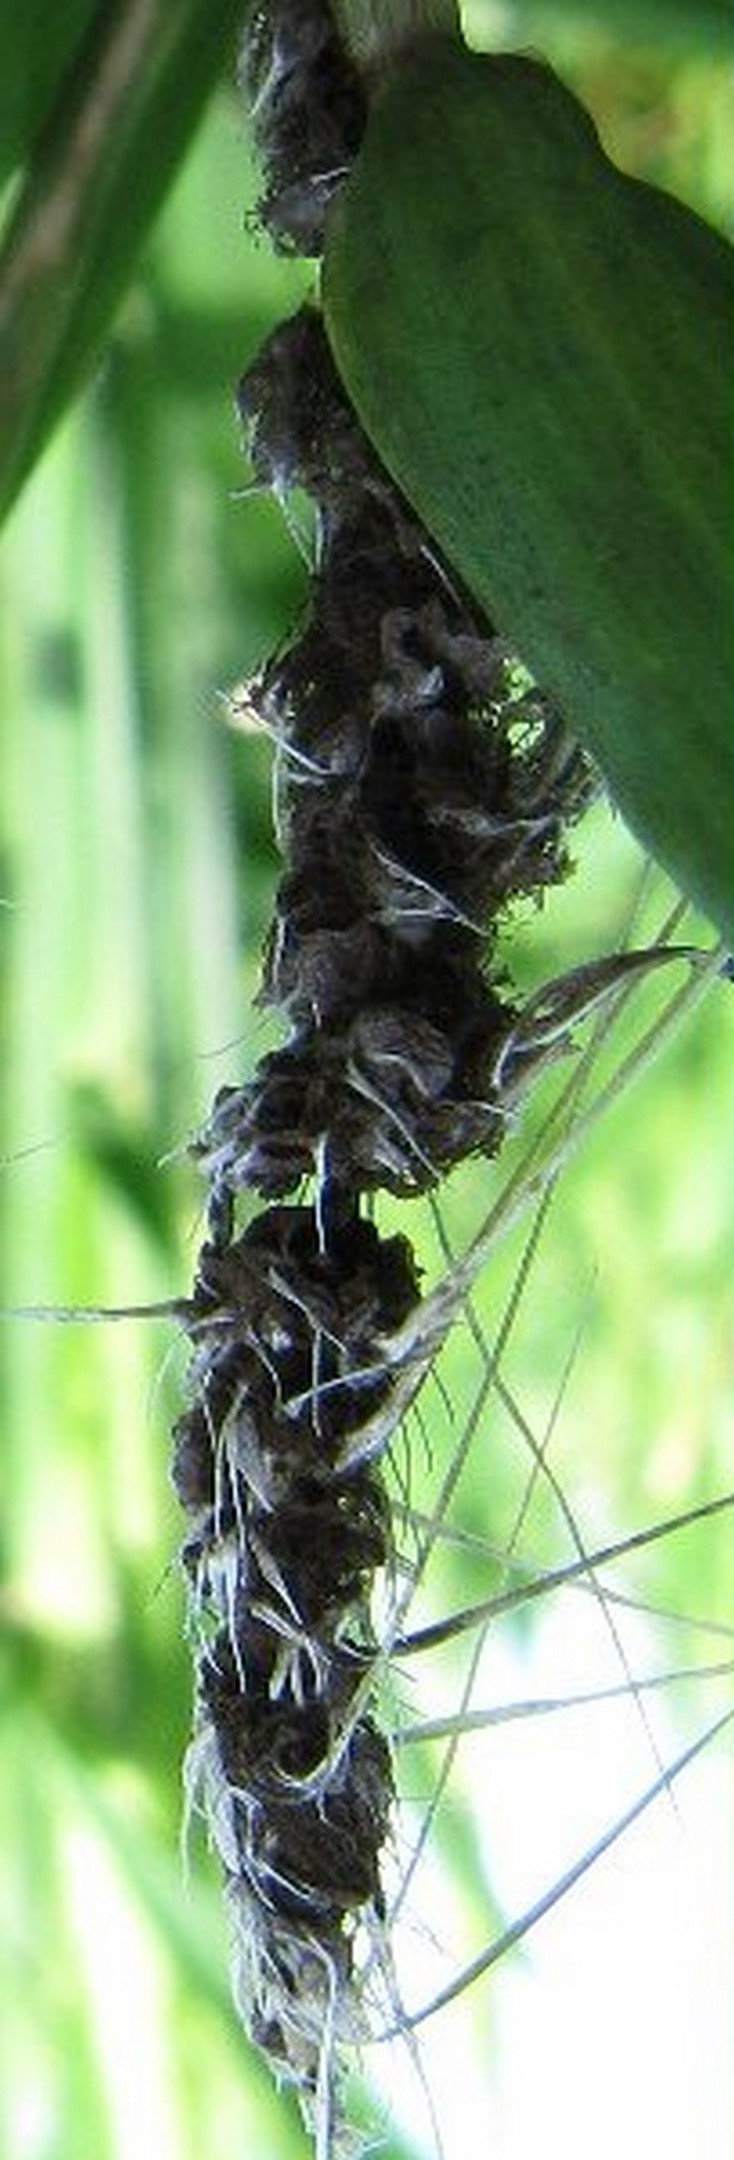Wheat Loose Smut: (131, 280, 638, 2002)
